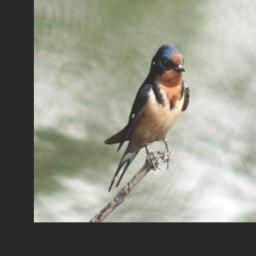Swallow: (108, 42, 192, 193)
